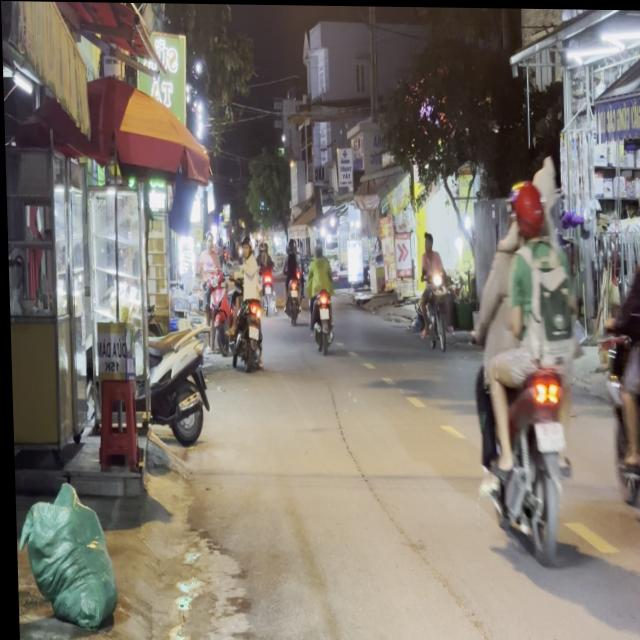helmet: (511, 177, 546, 241)
licenseplate: (463, 170, 588, 560), (598, 199, 640, 537)
nohelmet: (532, 418, 563, 447)
